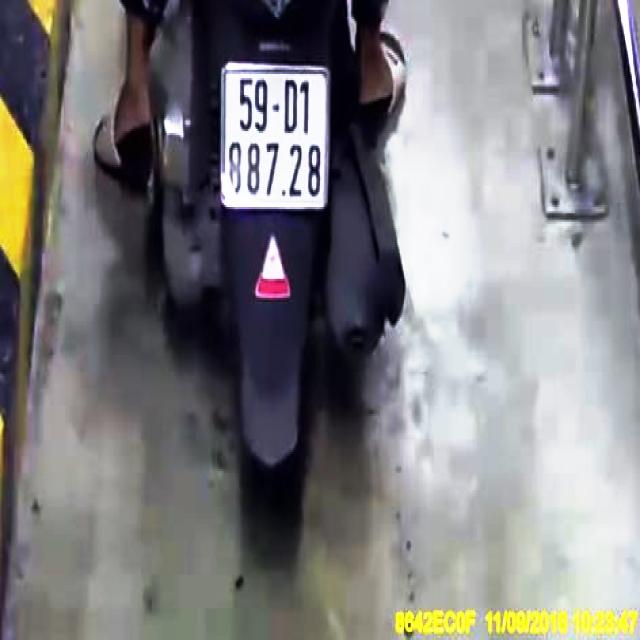license_plate: (223, 68, 331, 207)
